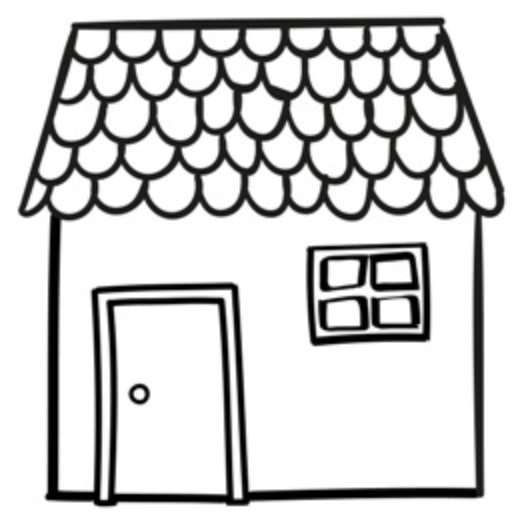House: (11, 10, 507, 510)
